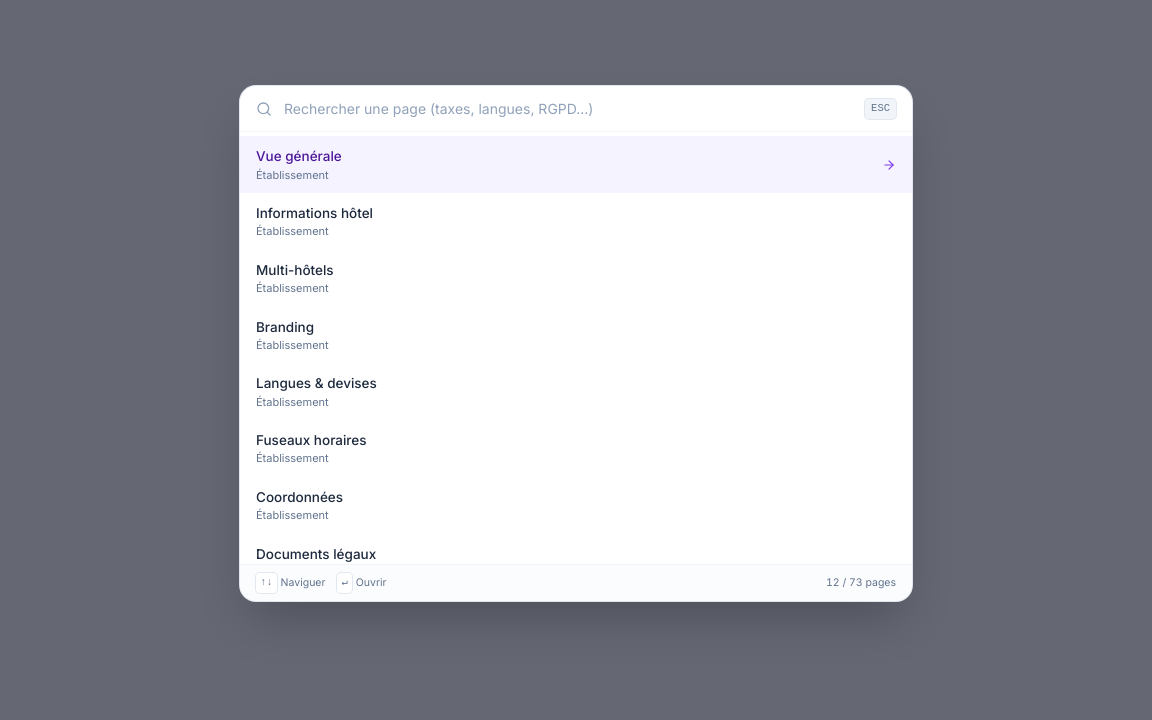
<SettingsCommandPalette> › clic sur un résultat appelle onNavigate
Later steps or results of the test are not shown.
In the dropdown with placeholder "Rechercher une page (taxes, langues, RGPD…)": (569, 109) [284,98,853,119], type "utilisateurs"
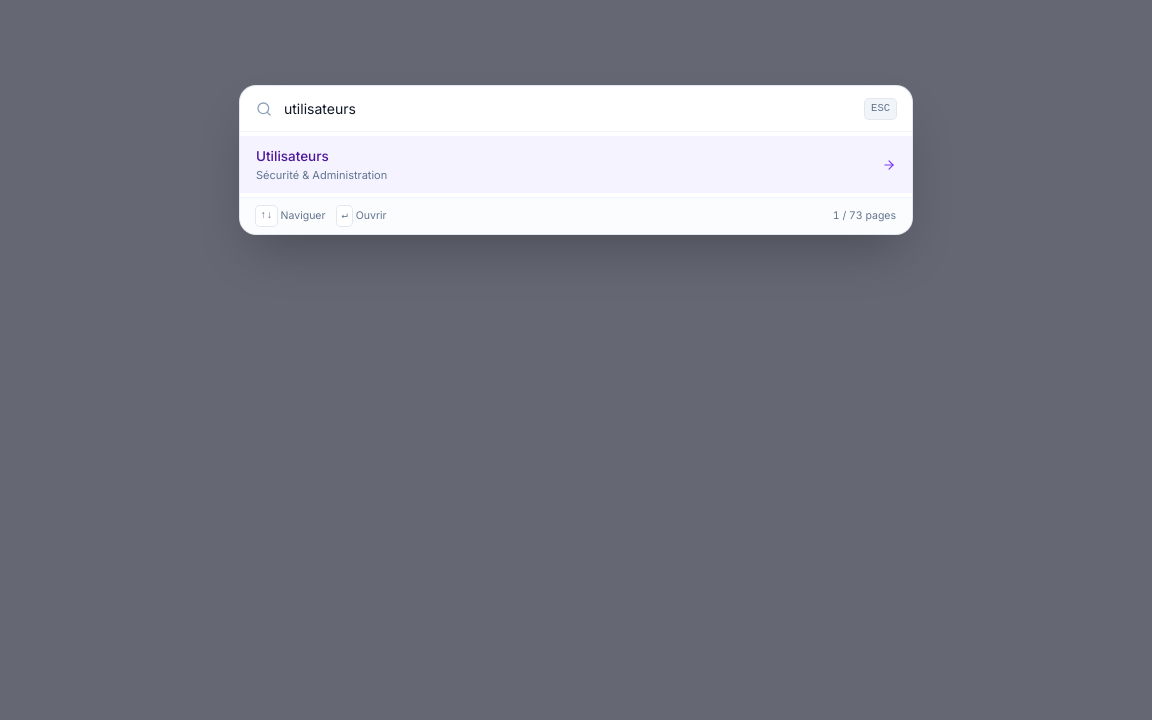
Check: the option "Utilisateurs Sécurité & Administration" is shown, box [240,136,912,193]
